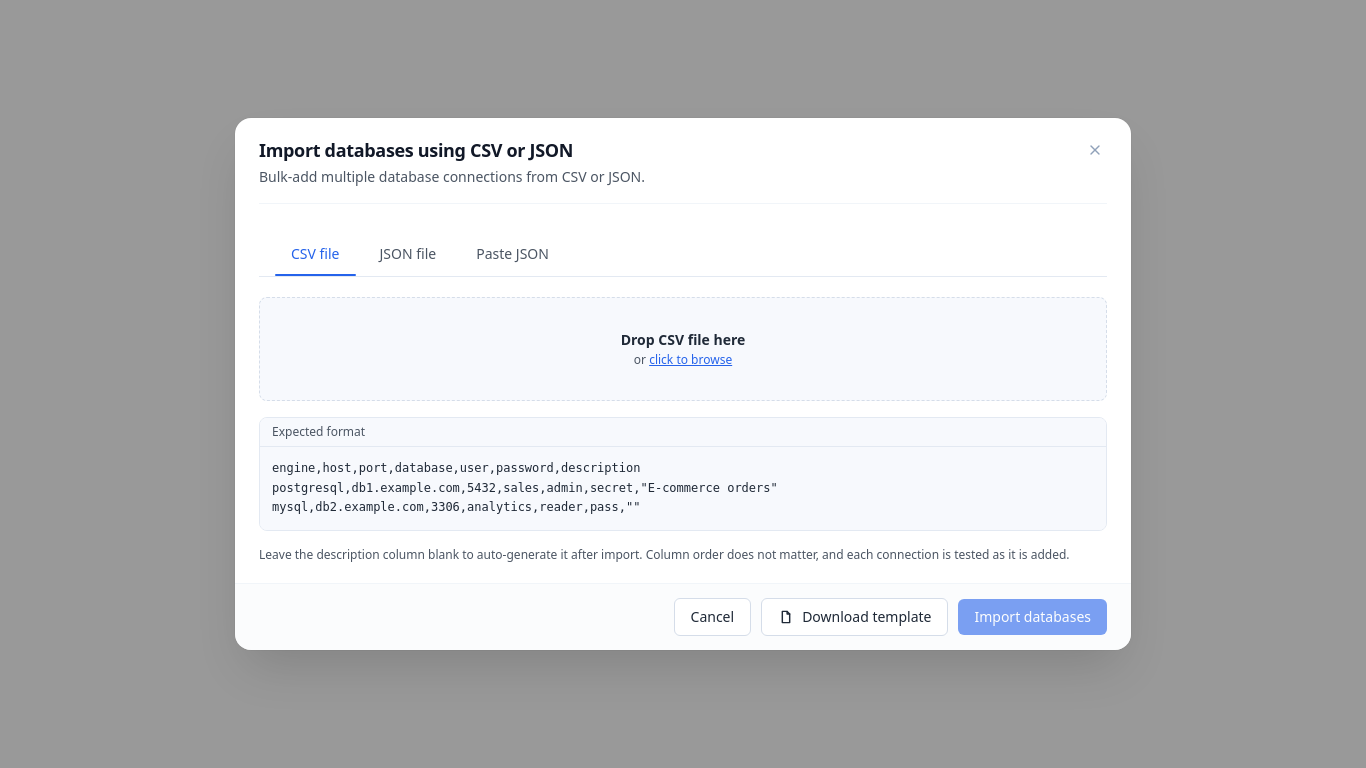
ImportDatabasesModal › names the rows it cannot read rather than importing part of the set
Click the tab "Paste JSON".
click(513, 254)  # box [460, 236, 565, 272]
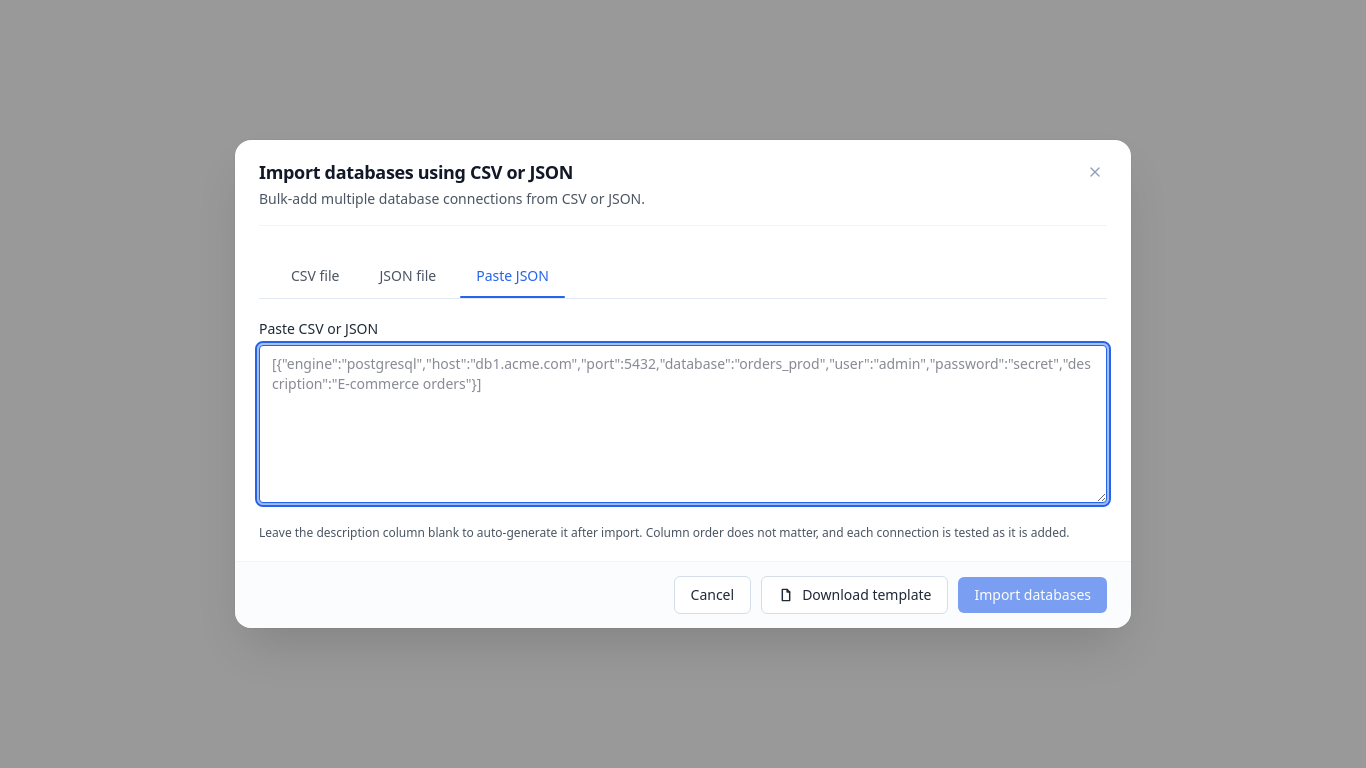
Type keys "[{\"engine\":\"postgresql\",\"host\":\"db1.acme.com\"}]"
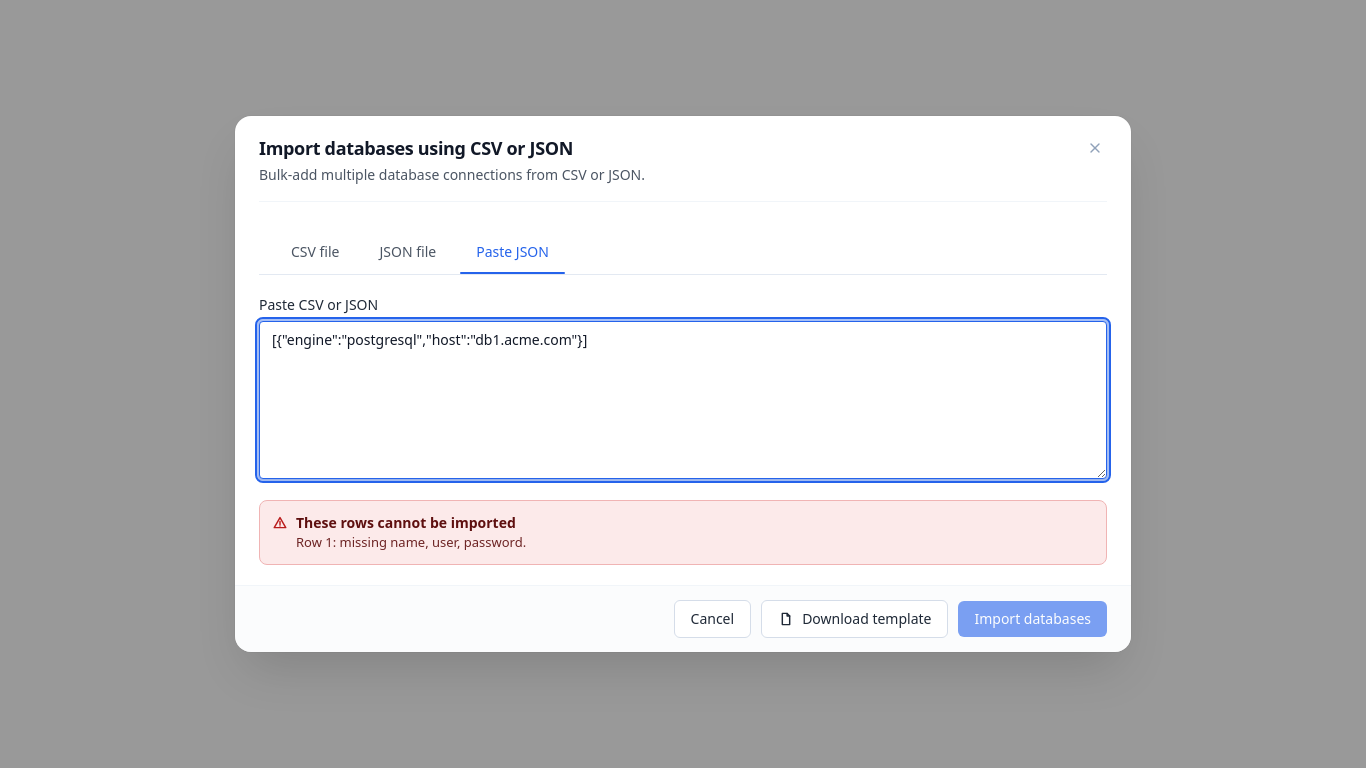
Check: the button "Import databases" is disabled, box [958, 601, 1107, 637]
Check: the text "These rows cannot be imported" is shown, box [296, 513, 526, 533]
